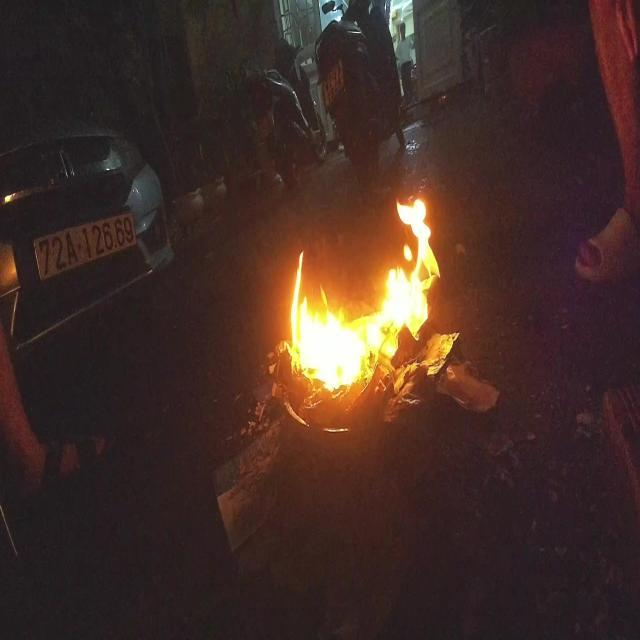Fire: (281, 195, 443, 408)
